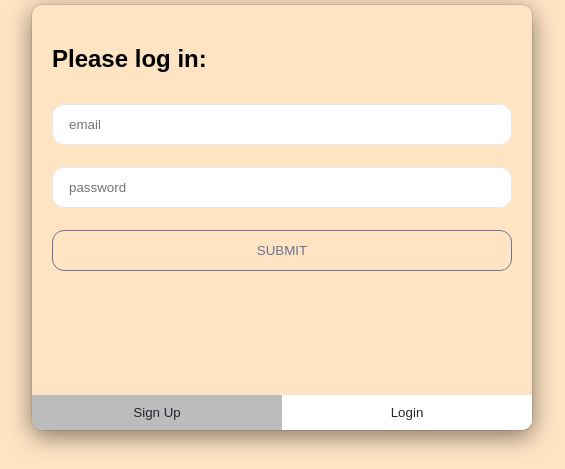
Test case: Auth Component › can switch between login to signup view
Click the button "Sign Up" at (157, 412), box x1=32 y1=395 x2=282 y2=430
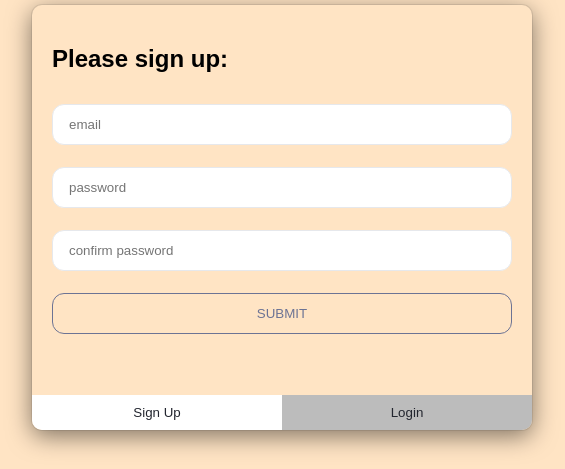
Expected: the field with placeholder "email" is shown, x1=52 y1=104 x2=512 y2=145
Now the heading "Please sign up:" is shown, box x1=52 y1=45 x2=228 y2=72
Now the password field with placeholder "confirm password" is shown, box x1=52 y1=230 x2=512 y2=271
